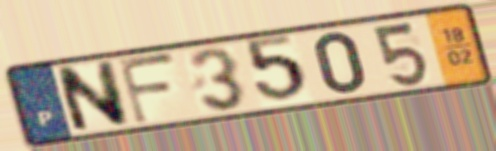0: (311, 30, 369, 96)
3: (186, 45, 251, 115)
5: (240, 32, 312, 107), (369, 18, 432, 88)
F: (114, 51, 180, 128)
N: (51, 58, 133, 136)
